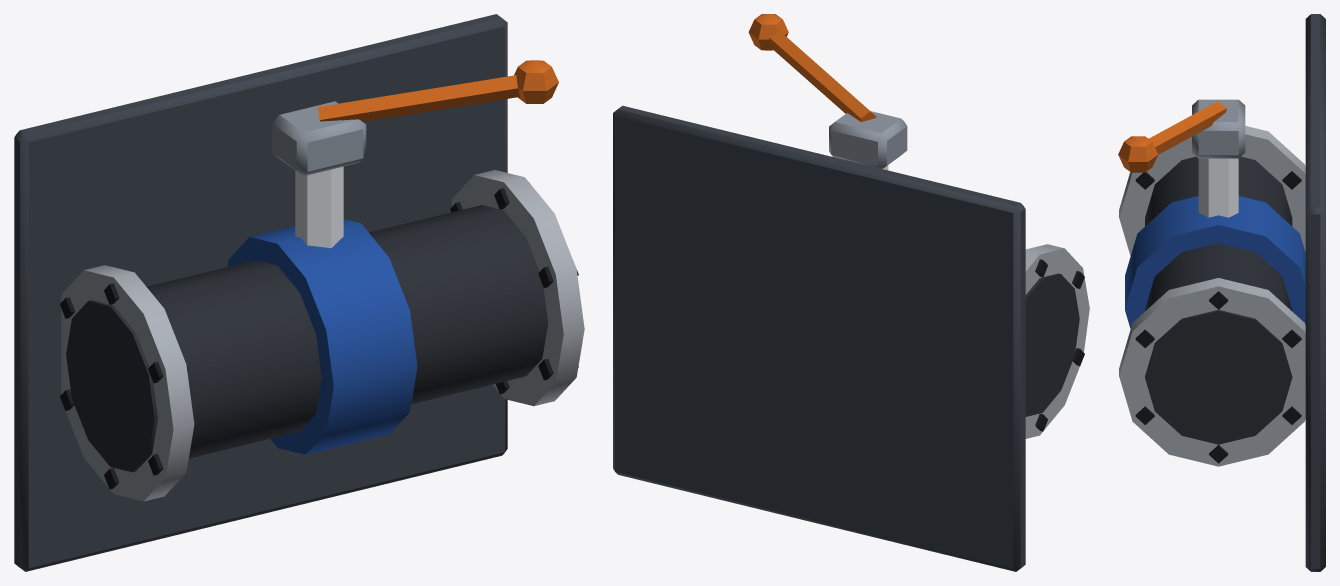
Rendered from valve_butterfly_valve.glb.
3 views of the same model, side by side, from view 1: azimuth 30°, elevation 25°; view 2: azimuth 150°, elevation 25°; view 3: azimuth 270°, elevation 25° (orthographic). The views are drawn at different scales.
Parts seen in each view (by area): view 1: valve_butterfly_valve; view 2: valve_butterfly_valve; view 3: valve_butterfly_valve.
Boxes of the visible parts, <box> form: valve_butterfly_valve: <box>14,14,584,571</box>; valve_butterfly_valve: <box>613,14,1089,571</box>; valve_butterfly_valve: <box>1118,14,1325,571</box>.
Size of the model in its own units: 0.7 by 0.67 by 0.31.
